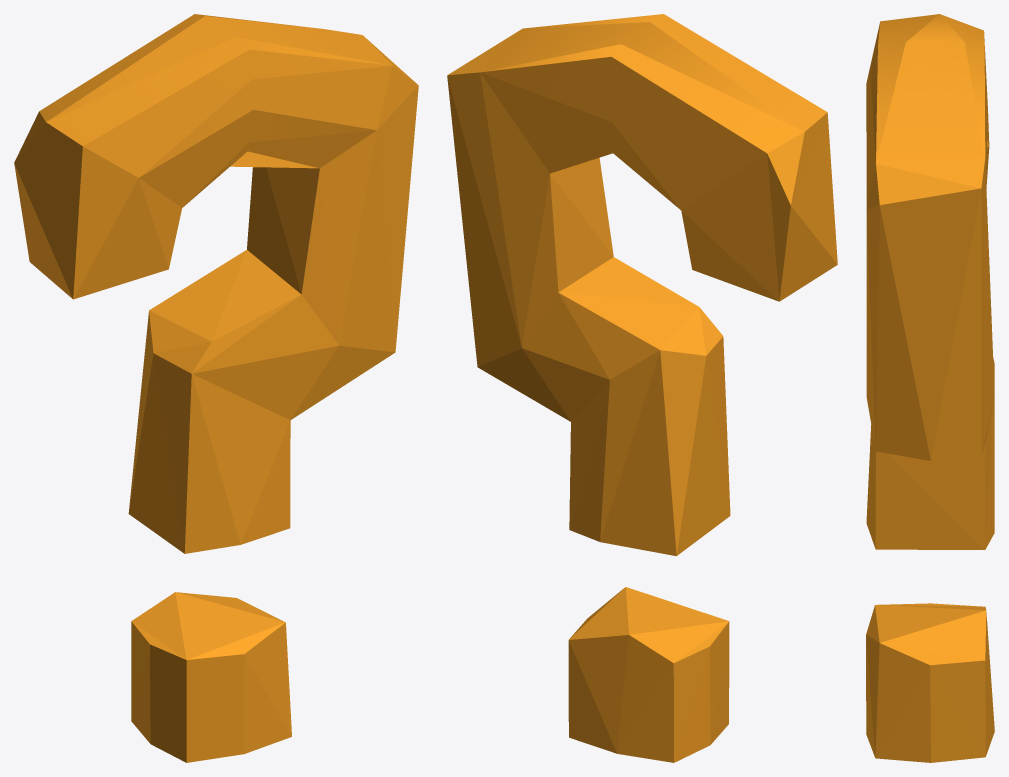
File: SM_Icon_Letter_Question_01.fbx
The picture shows the model from 3 angles, left to right: view 1: azimuth 30°, elevation 25°; view 2: azimuth 150°, elevation 25°; view 3: azimuth 270°, elevation 25°; orthographic projection.
Visible parts, largest first — view 1: SM_Icon_Letter_Question_01; view 2: SM_Icon_Letter_Question_01; view 3: SM_Icon_Letter_Question_01.
Part boxes in pixels (bbox=[...]): SM_Icon_Letter_Question_01: bbox=[14, 14, 418, 762]; SM_Icon_Letter_Question_01: bbox=[447, 14, 837, 762]; SM_Icon_Letter_Question_01: bbox=[866, 14, 994, 762].
Size of the model in its own units: 35.76 by 68.02 by 11.39.
